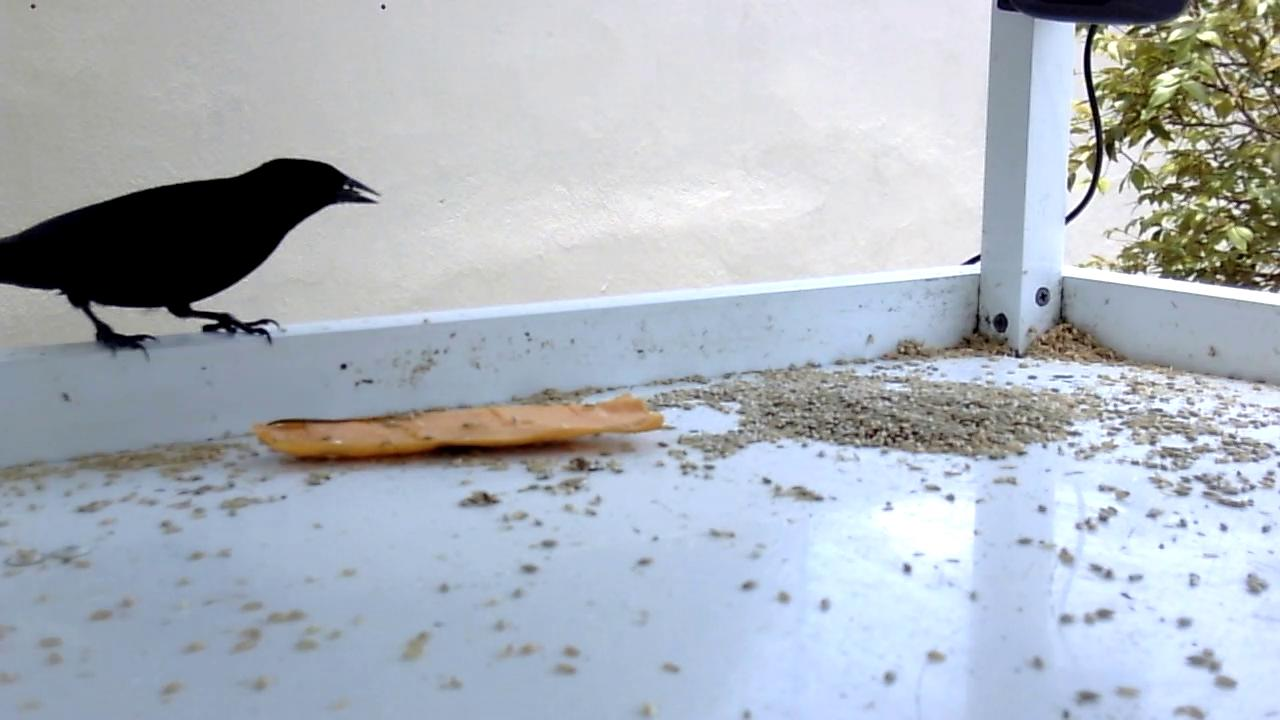chupim: (1, 156, 387, 369)
